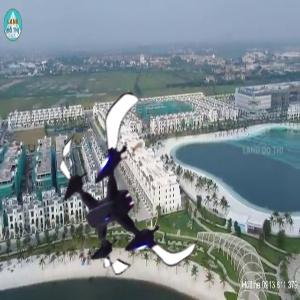drone: (39, 116, 214, 291)
